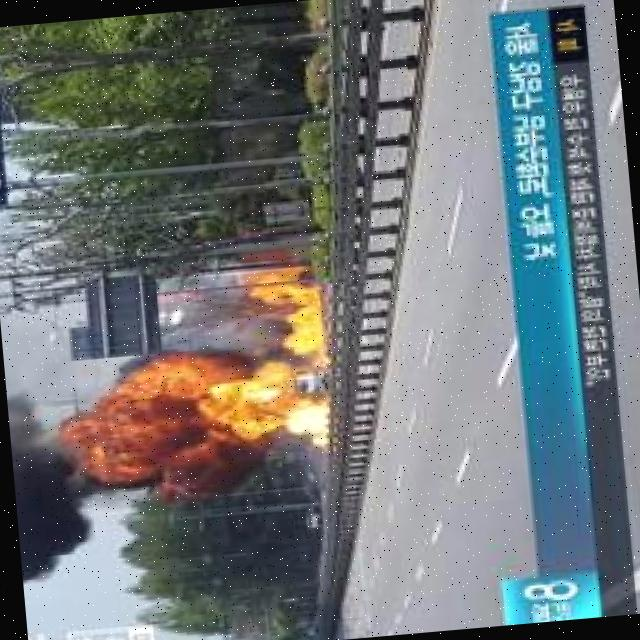fire: (160, 367, 276, 441), (265, 271, 323, 357), (273, 346, 326, 434)
